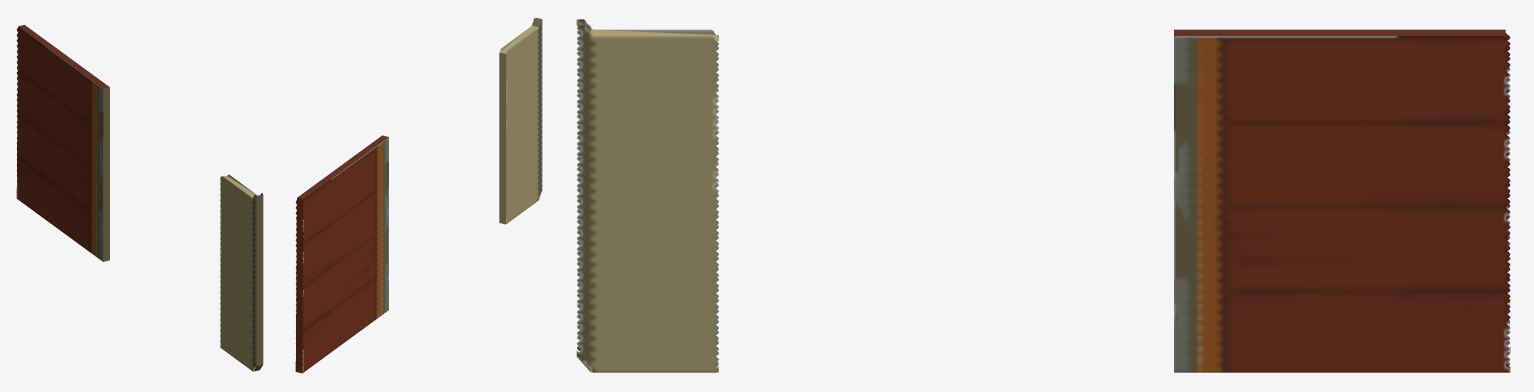
File: pz_native_location_restaurant_spiffos_01_33_frame.obj
3 renders of one model, left to right at view 1: azimuth 30°, elevation 25°; view 2: azimuth 150°, elevation 25°; view 3: azimuth 270°, elevation 25°, orthographic. The views are drawn at different scales.
Parts seen in each view (by area): view 1: pz_native_location_restaurant_spiffos_01_33_frame; view 2: pz_native_location_restaurant_spiffos_01_33_frame; view 3: pz_native_location_restaurant_spiffos_01_33_frame.
Boxes of the visible parts, x1,y1,x2,y2 form: pz_native_location_restaurant_spiffos_01_33_frame: (16,25,263,371); pz_native_location_restaurant_spiffos_01_33_frame: (295,17,542,373); pz_native_location_restaurant_spiffos_01_33_frame: (576,19,1510,372).
Bounding box in the file's own units: 0.04 × 1.06 × 2.55.
1 material, 1 textured.
